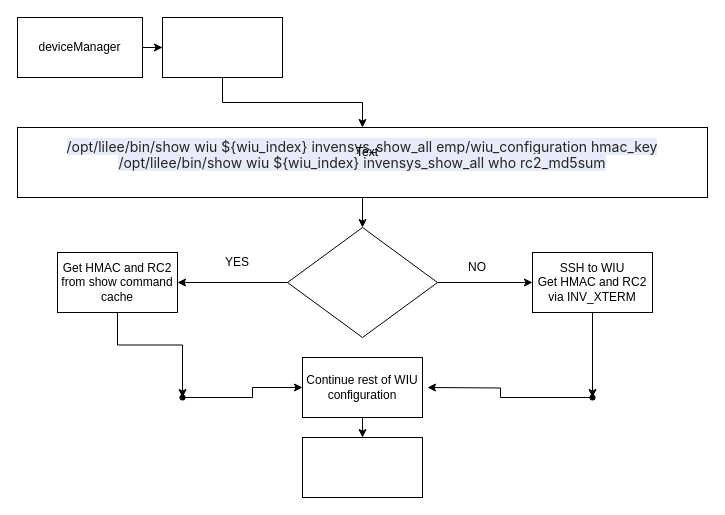
Some shapes in this 725 by 515 pixel diagram are drawn without their labels. Each missing label, with the box of its shape:
create a "flag" file to inform that cache need to be updated: (302, 436, 422, 498)
Is HMAC and RC2 in cache?: (286, 226, 438, 338)
wiuZCC: (162, 16, 282, 78)
